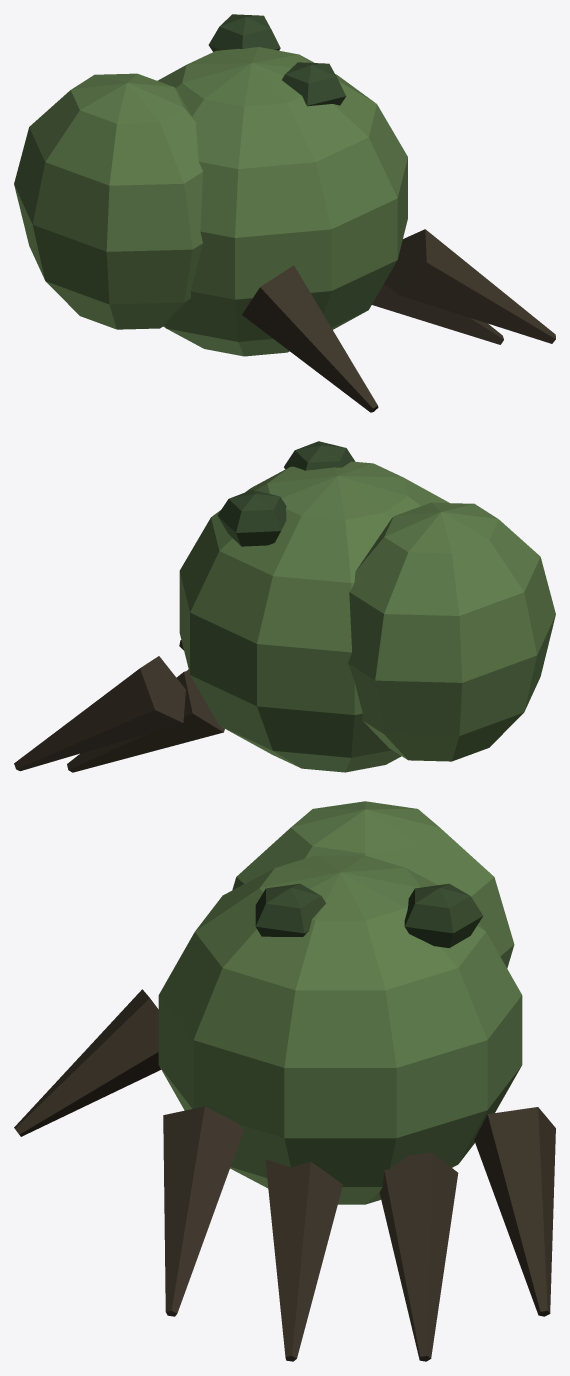
The model's file is troll_chief_fist_l.glb.
The picture shows the model from 3 angles, top to bottom: view 1: azimuth 30°, elevation 25°; view 2: azimuth 150°, elevation 25°; view 3: azimuth 270°, elevation 25°; orthographic projection. The views are drawn at different scales.
Parts seen in each view (by area): view 1: troll_chief_fist_l; view 2: troll_chief_fist_l; view 3: troll_chief_fist_l.
Boxes of the visible parts, <box> form: troll_chief_fist_l: <box>14,14,555,412</box>; troll_chief_fist_l: <box>14,441,555,772</box>; troll_chief_fist_l: <box>14,801,555,1361</box>.
Bounding box in the file's own units: 0.4629 × 0.3289 × 0.4362.
